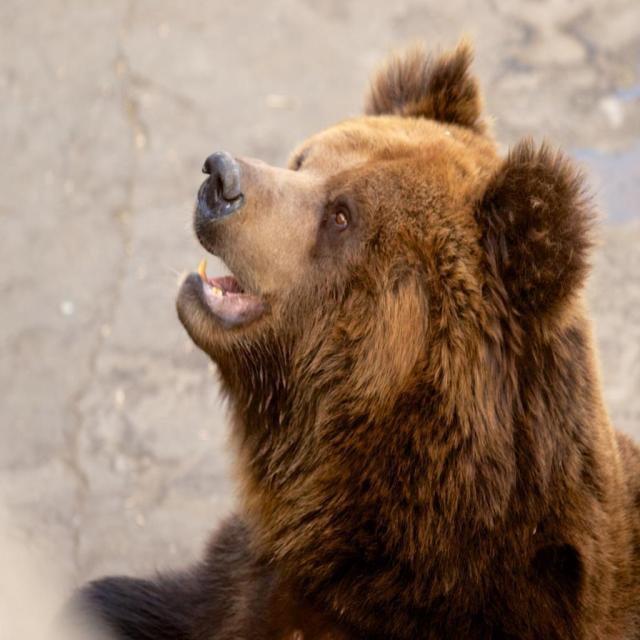Cheetahs: (46, 40, 639, 640)
